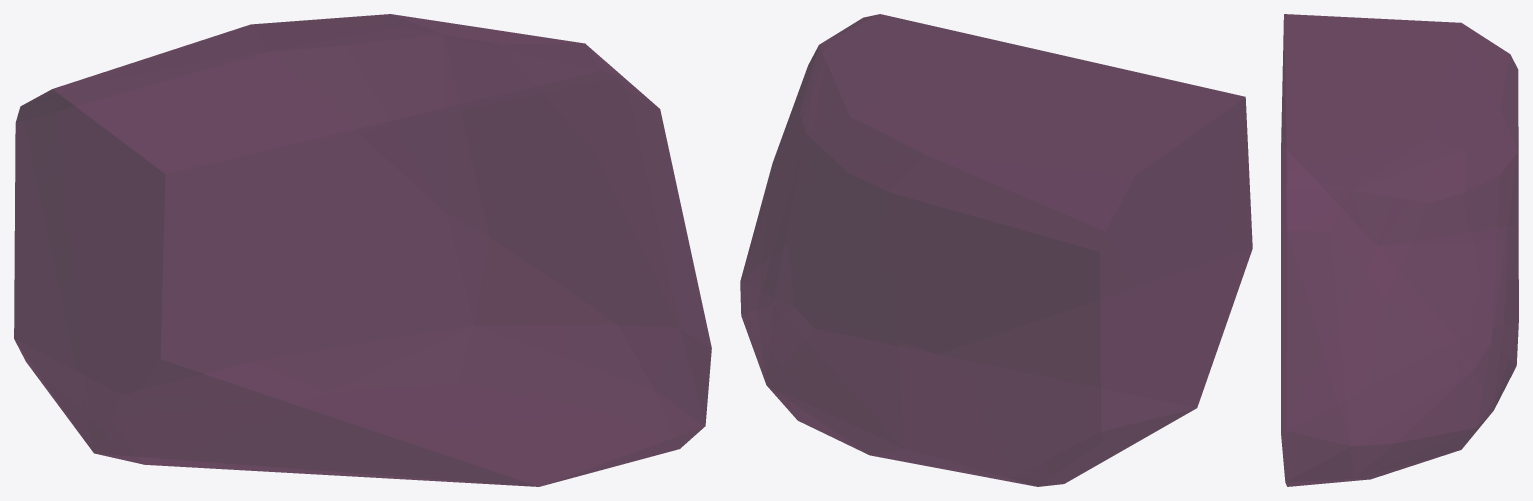
3 renders of one model, left to right at view 1: azimuth 30°, elevation 25°; view 2: azimuth 150°, elevation 25°; view 3: azimuth 270°, elevation 25°, orthographic. The views are drawn at different scales.
Visible parts, largest first — view 1: Shape_IndexedFaceSet.009_Shape_IndexedFaceSet.9144; view 2: Shape_IndexedFaceSet.009_Shape_IndexedFaceSet.9144; view 3: Shape_IndexedFaceSet.009_Shape_IndexedFaceSet.9144.
Boxes of the visible parts, x1,y1,x2,y2 form: Shape_IndexedFaceSet.009_Shape_IndexedFaceSet.9144: (14, 14, 711, 486); Shape_IndexedFaceSet.009_Shape_IndexedFaceSet.9144: (740, 14, 1252, 486); Shape_IndexedFaceSet.009_Shape_IndexedFaceSet.9144: (1281, 14, 1518, 486).
Bounding box in the file's own units: 0.145 × 0.0983 × 0.0728.
